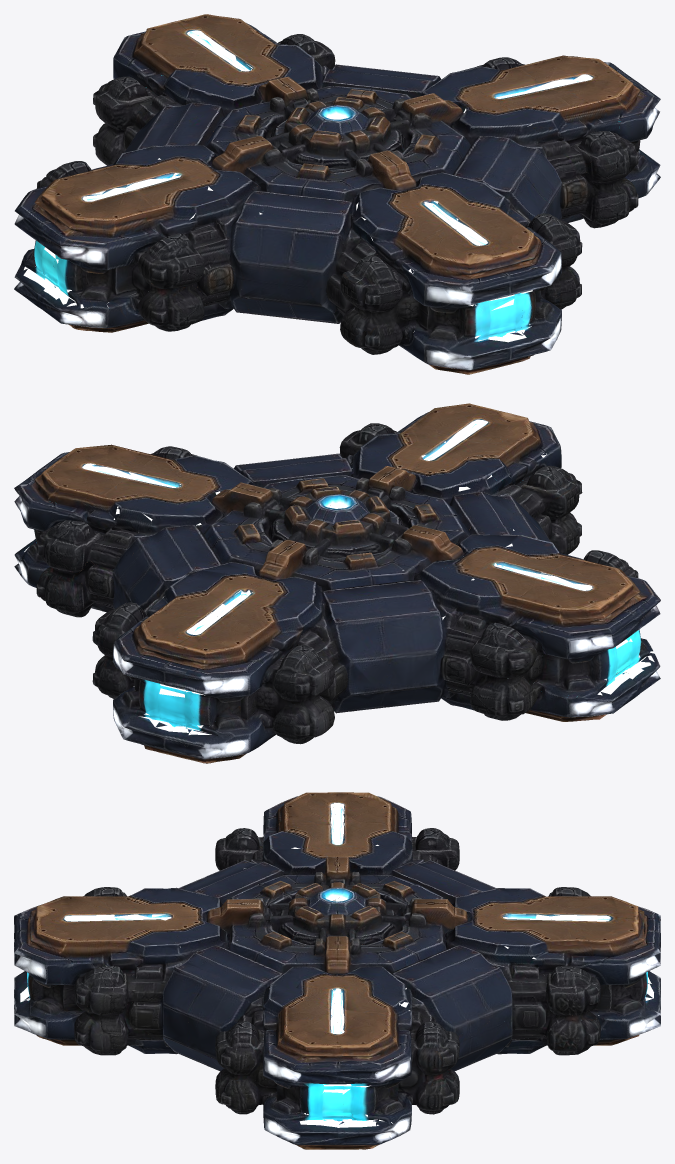
File: aegis-tortoise-turret-lean.glb
3 renders of one model, top to bottom at view 1: azimuth 30°, elevation 25°; view 2: azimuth 150°, elevation 25°; view 3: azimuth 270°, elevation 25°, orthographic. The views are drawn at different scales.
Visible parts, largest first — view 1: Mesh_0; view 2: Mesh_0; view 3: Mesh_0.
Part boxes in pixels (left/top/right/bottom): Mesh_0: left=14, top=14, right=660, bottom=374; Mesh_0: left=14, top=403, right=660, bottom=763; Mesh_0: left=14, top=792, right=660, bottom=1149.
Bounding box in the file's own units: 1 × 0.2583 × 0.9997.
2 materials, 1 textured.
